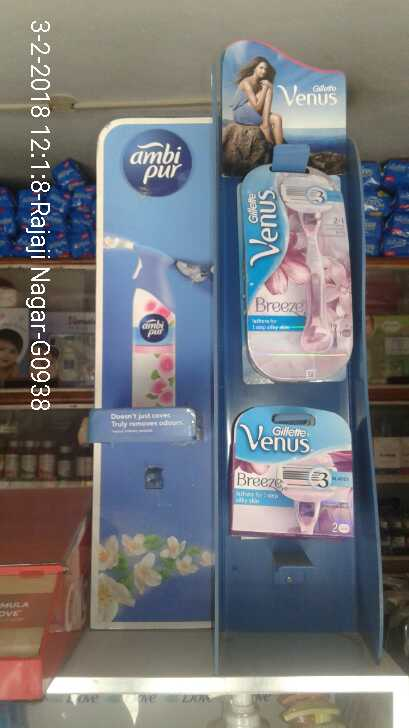venus: (242, 152, 354, 384), (226, 411, 361, 537)
